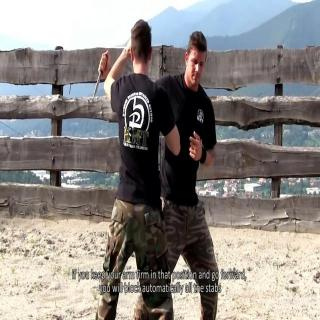knife: (88, 47, 110, 103)
